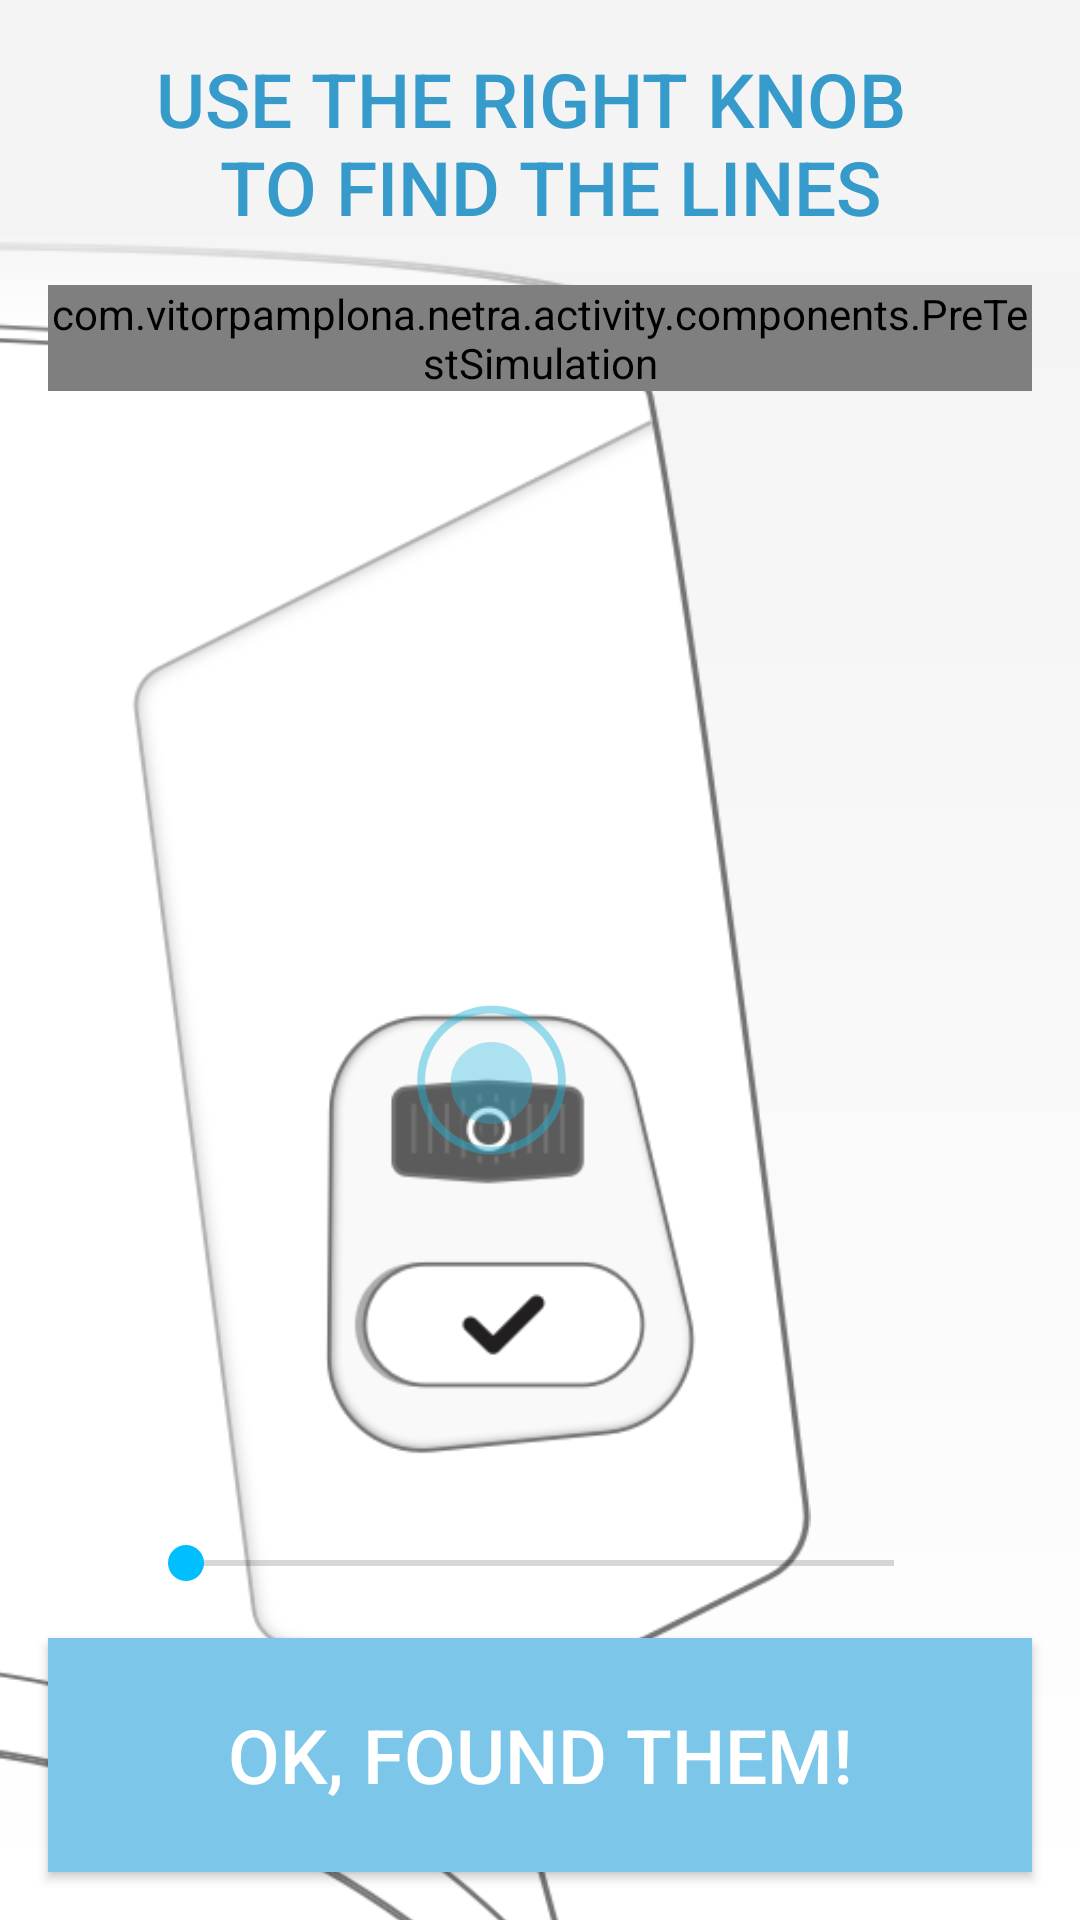

Point at icon controls on the screen. Image size 1080*1920, points as (x,y).
circle: (492,1080)
